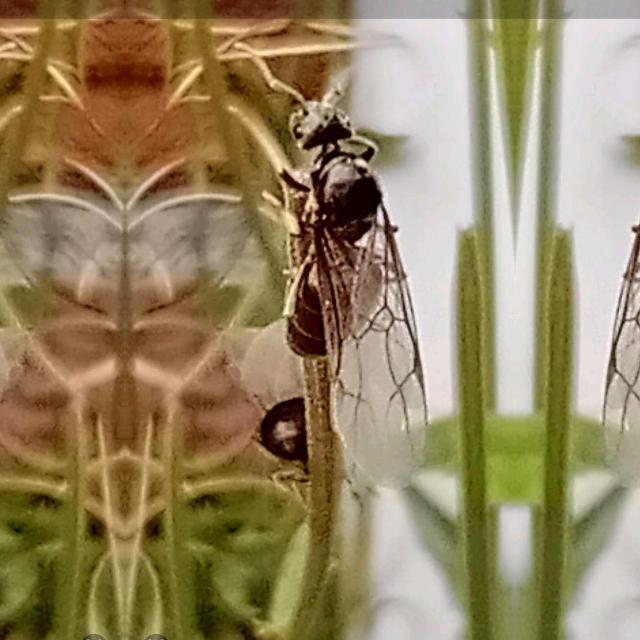Lasius: (231, 58, 443, 446), (214, 302, 344, 516), (586, 58, 640, 446), (0, 301, 32, 514)
